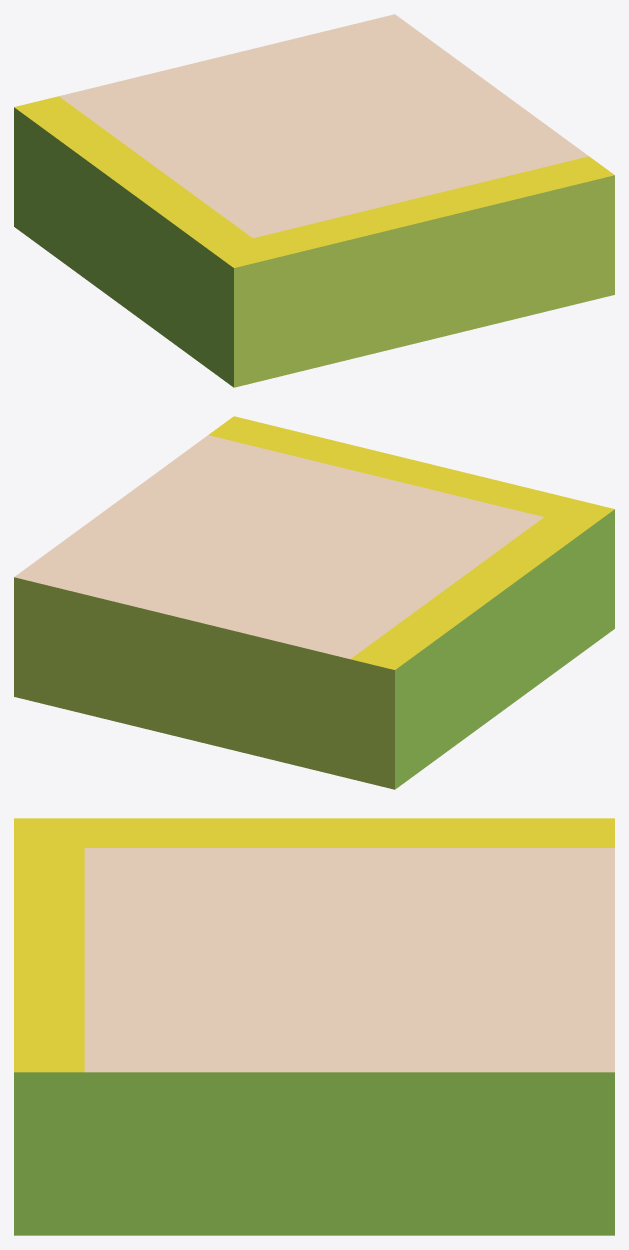
Rendered from floor_basic6.fbx.
The picture shows the model from 3 angles, top to bottom: view 1: azimuth 30°, elevation 25°; view 2: azimuth 150°, elevation 25°; view 3: azimuth 270°, elevation 25°; orthographic projection. The views are drawn at different scales.
Visible parts, largest first — view 1: floor_basic6; view 2: floor_basic6; view 3: floor_basic6.
Part boxes in pixels (x1,y1,x2,y2): floor_basic6: (14, 14, 614, 387); floor_basic6: (14, 416, 614, 789); floor_basic6: (14, 818, 614, 1235).
Bounding box in the file's own units: 100 × 30 × 100.
